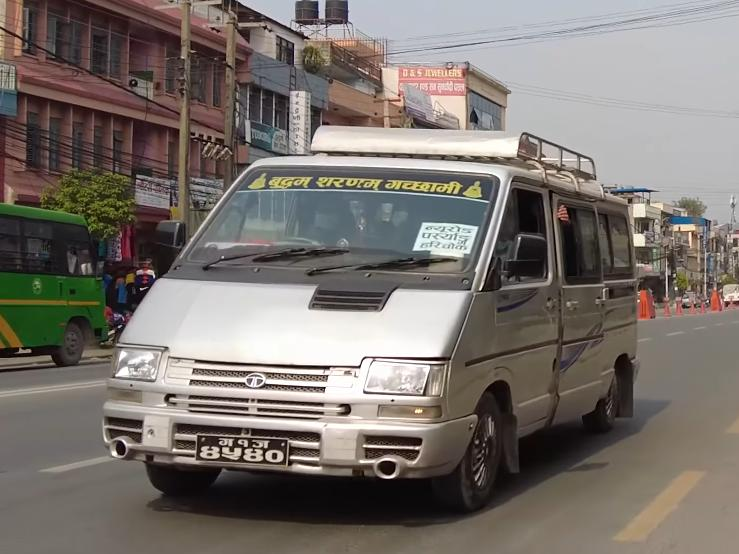bus: (0, 201, 112, 372)
micro_bus: (96, 124, 640, 518)
